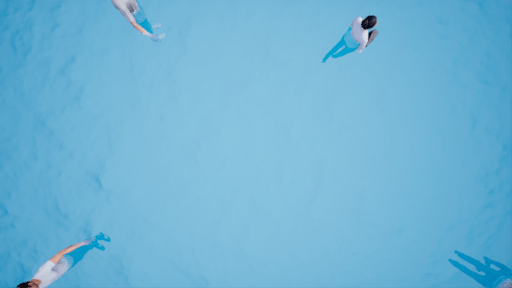person: (19, 224, 111, 288), (311, 12, 394, 64), (114, 1, 170, 43)
